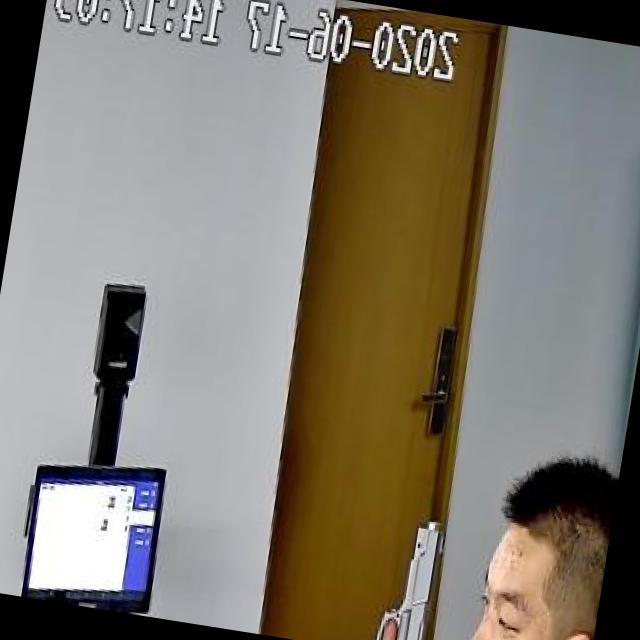Guns: (301, 471, 486, 640)
